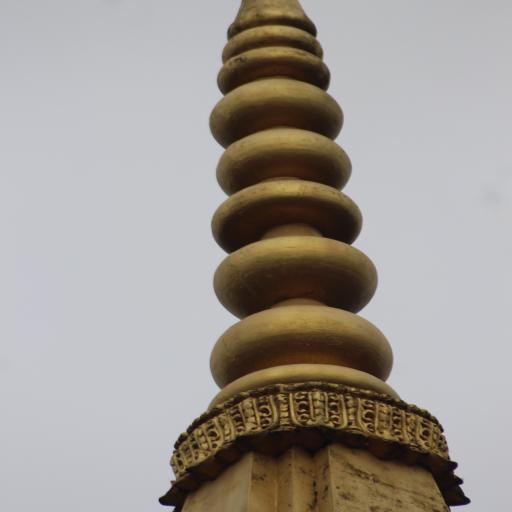la: (356, 397, 406, 441), (292, 393, 346, 429), (232, 394, 275, 436), (190, 416, 221, 465), (412, 412, 442, 453), (171, 444, 185, 478)
